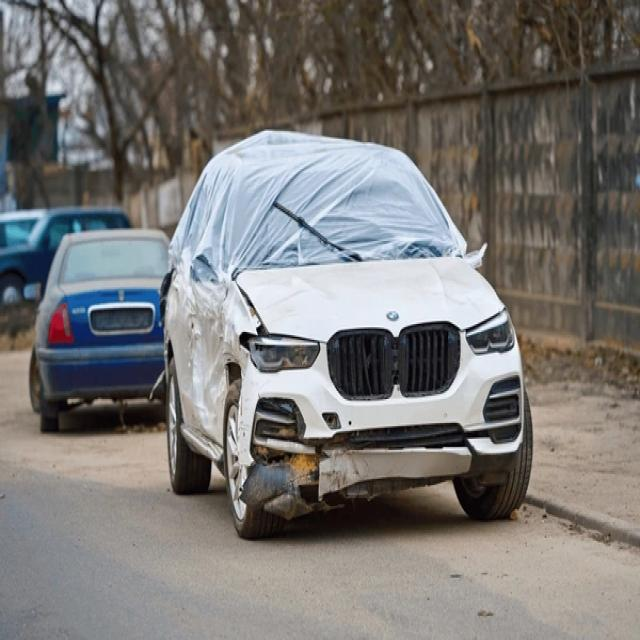bmw: (385, 309, 398, 326)
